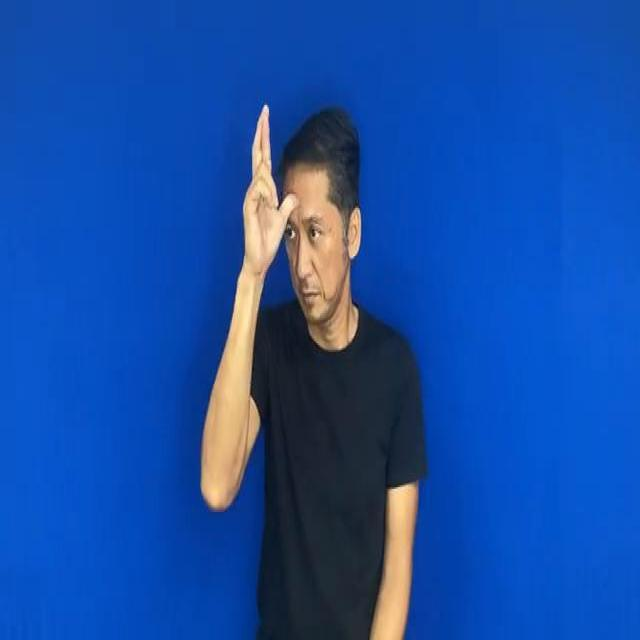chicken: (235, 82, 292, 275)
